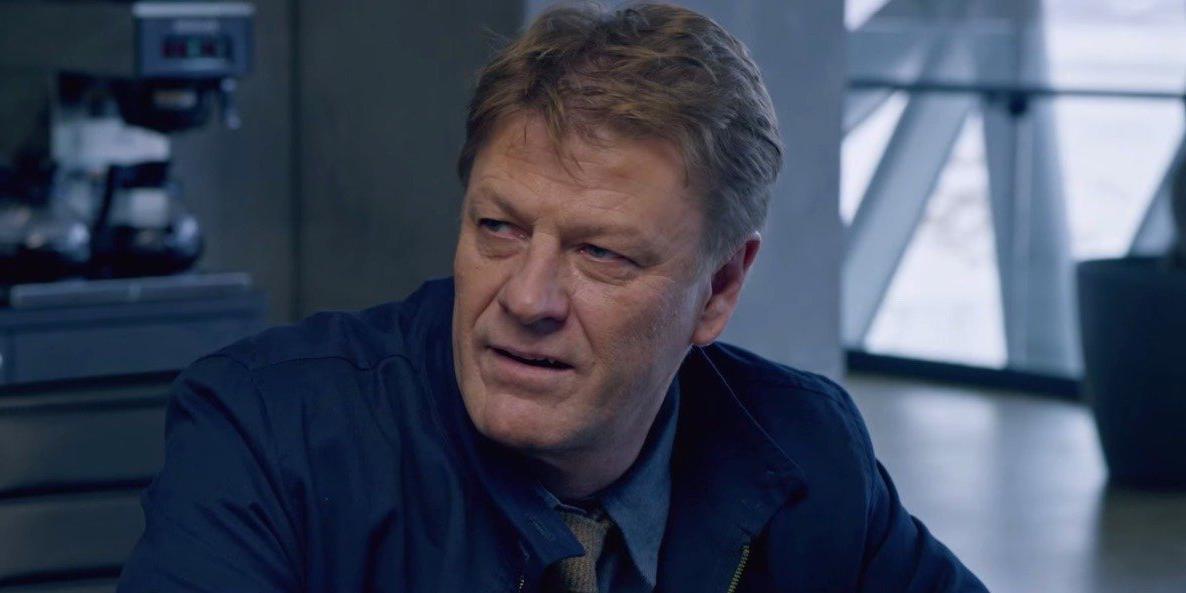Sober: (460, 120, 679, 434)
